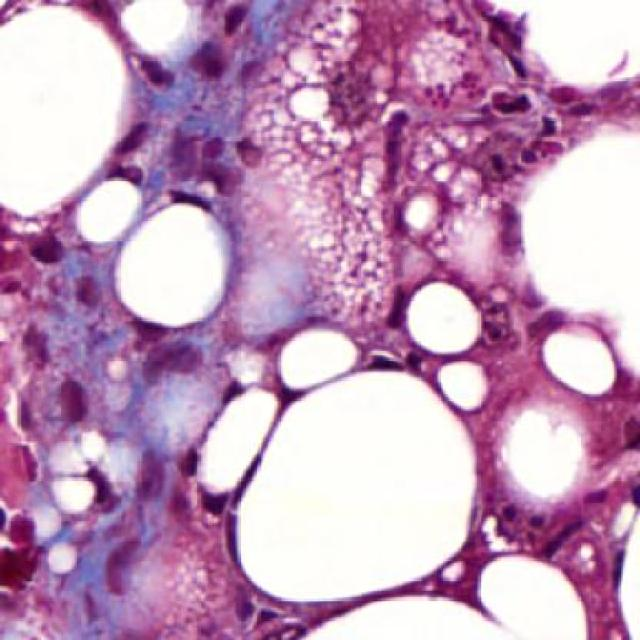steatosis: (234, 364, 482, 606), (408, 278, 495, 356)
